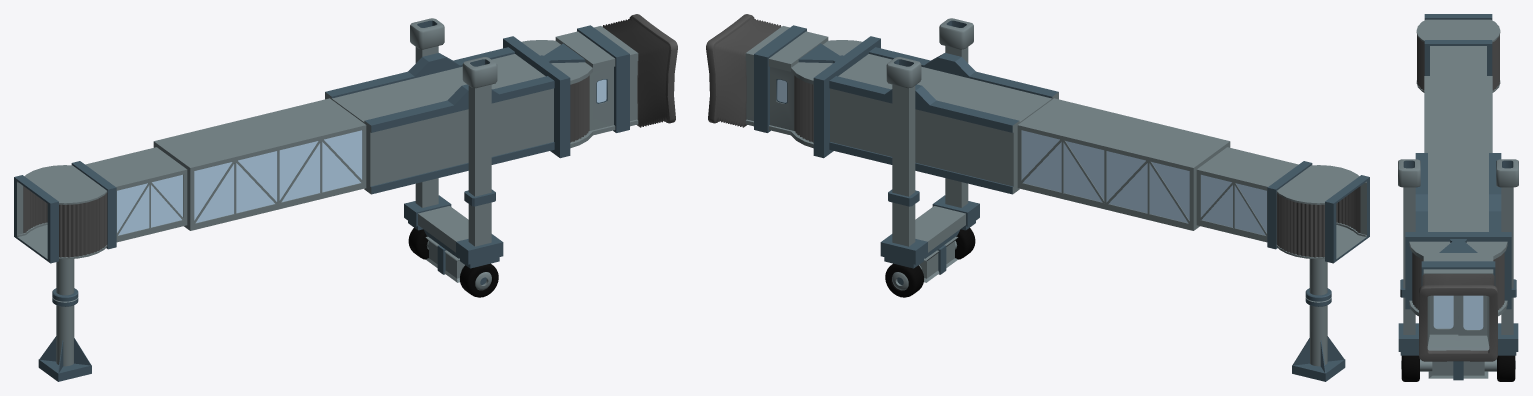
File: 06_Tunnel_AIRPORT_0.obj
The picture shows the model from 3 angles, left to right: view 1: azimuth 30°, elevation 25°; view 2: azimuth 150°, elevation 25°; view 3: azimuth 270°, elevation 25°; orthographic projection. The views are drawn at different scales.
Visible parts, largest first — view 1: 06.Tunnel_AIRPORT_0; view 2: 06.Tunnel_AIRPORT_0; view 3: 06.Tunnel_AIRPORT_0.
Part boxes in pixels (left/top/right/bottom): 06.Tunnel_AIRPORT_0: left=14, top=14, right=677, bottom=381; 06.Tunnel_AIRPORT_0: left=706, top=14, right=1369, bottom=381; 06.Tunnel_AIRPORT_0: left=1398, top=14, right=1518, bottom=381.
Size of the model in its own units: 30.21 by 10.72 by 5.44.
1 material, 1 textured.
